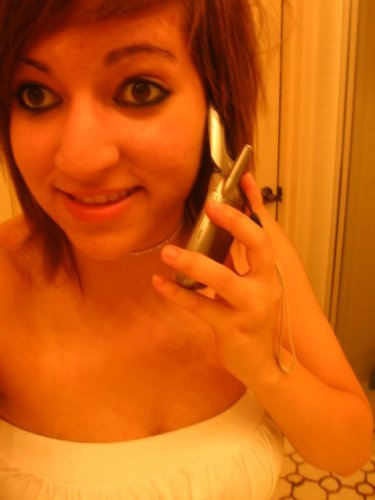without_mask: (4, 24, 220, 267)
